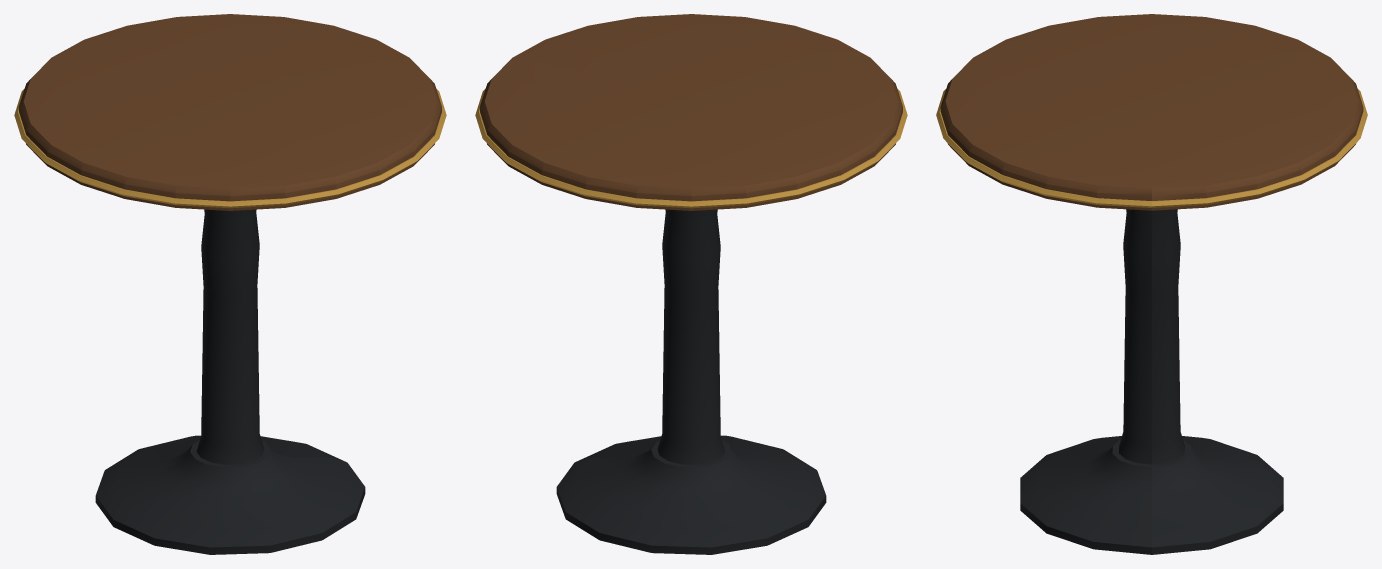
File: PubTableRound.obj
3 views of the same model, side by side, from view 1: azimuth 30°, elevation 25°; view 2: azimuth 150°, elevation 25°; view 3: azimuth 270°, elevation 25° (orthographic).
Parts seen in each view (by area): view 1: pub-table-round-pedestal_1, pub-table-round-pedestal_0, pub-table-round-pedestal_2; view 2: pub-table-round-pedestal_1, pub-table-round-pedestal_0, pub-table-round-pedestal_2; view 3: pub-table-round-pedestal_1, pub-table-round-pedestal_0, pub-table-round-pedestal_2.
Boxes of the visible parts, left/top/right/bottom form: pub-table-round-pedestal_1: left=19, top=14, right=441, bottom=210; pub-table-round-pedestal_0: left=95, top=209, right=365, bottom=554; pub-table-round-pedestal_2: left=14, top=89, right=446, bottom=208; pub-table-round-pedestal_1: left=480, top=14, right=902, bottom=210; pub-table-round-pedestal_0: left=556, top=209, right=826, bottom=554; pub-table-round-pedestal_2: left=475, top=89, right=907, bottom=208; pub-table-round-pedestal_1: left=940, top=14, right=1363, bottom=210; pub-table-round-pedestal_0: left=1020, top=209, right=1283, bottom=554; pub-table-round-pedestal_2: left=936, top=89, right=1367, bottom=207.
Bounding box in the file's own units: 0.736 × 0.75 × 0.736.
